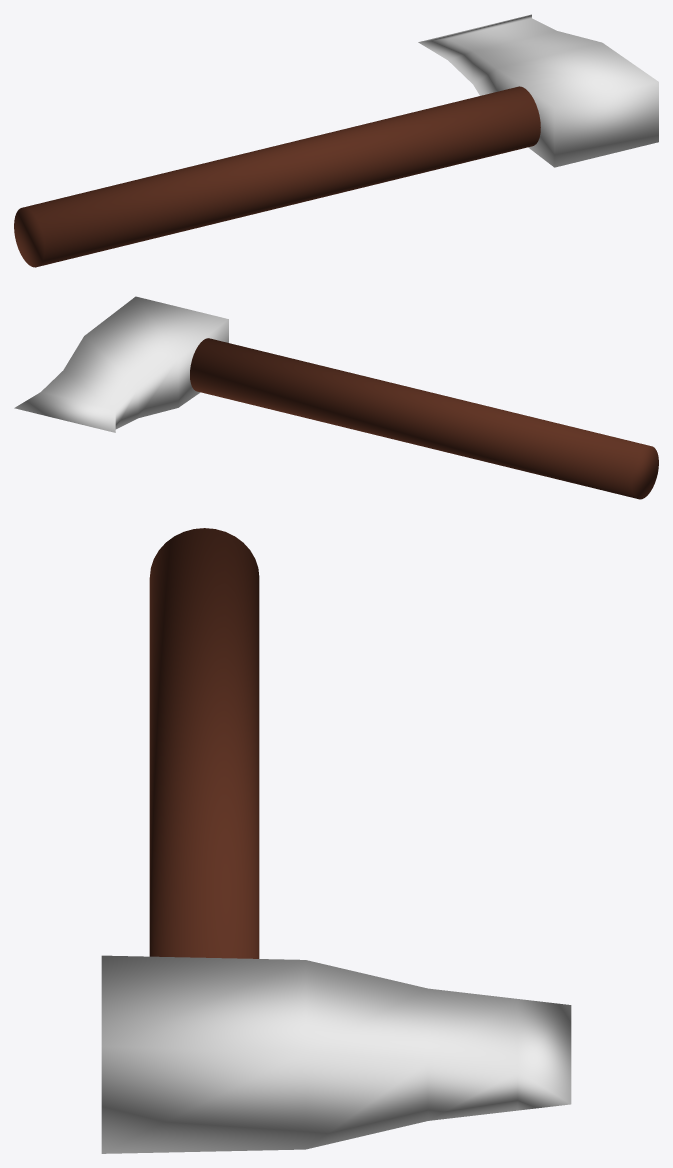
Rendered from axe.fbx.
3 views of the same model, one above another, from view 1: azimuth 30°, elevation 25°; view 2: azimuth 150°, elevation 25°; view 3: azimuth 270°, elevation 25° (orthographic). The views are drawn at different scales.
Visible parts, largest first — view 1: Cylinder; view 2: Cylinder; view 3: Cylinder.
Boxes of the visible parts, <box> form: Cylinder: <box>14,14,658,267</box>; Cylinder: <box>14,296,658,499</box>; Cylinder: <box>101,528,571,1153</box>.
Size of the model in its own units: 114 by 10.81 by 42.83.
